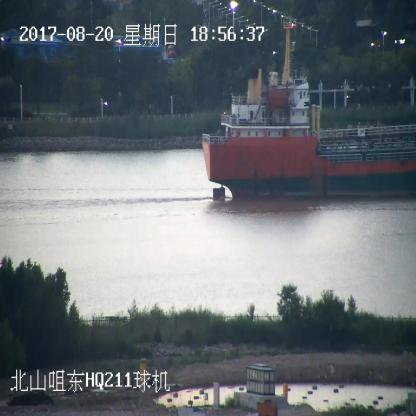Bulk Carrier: (200, 46, 415, 198)
